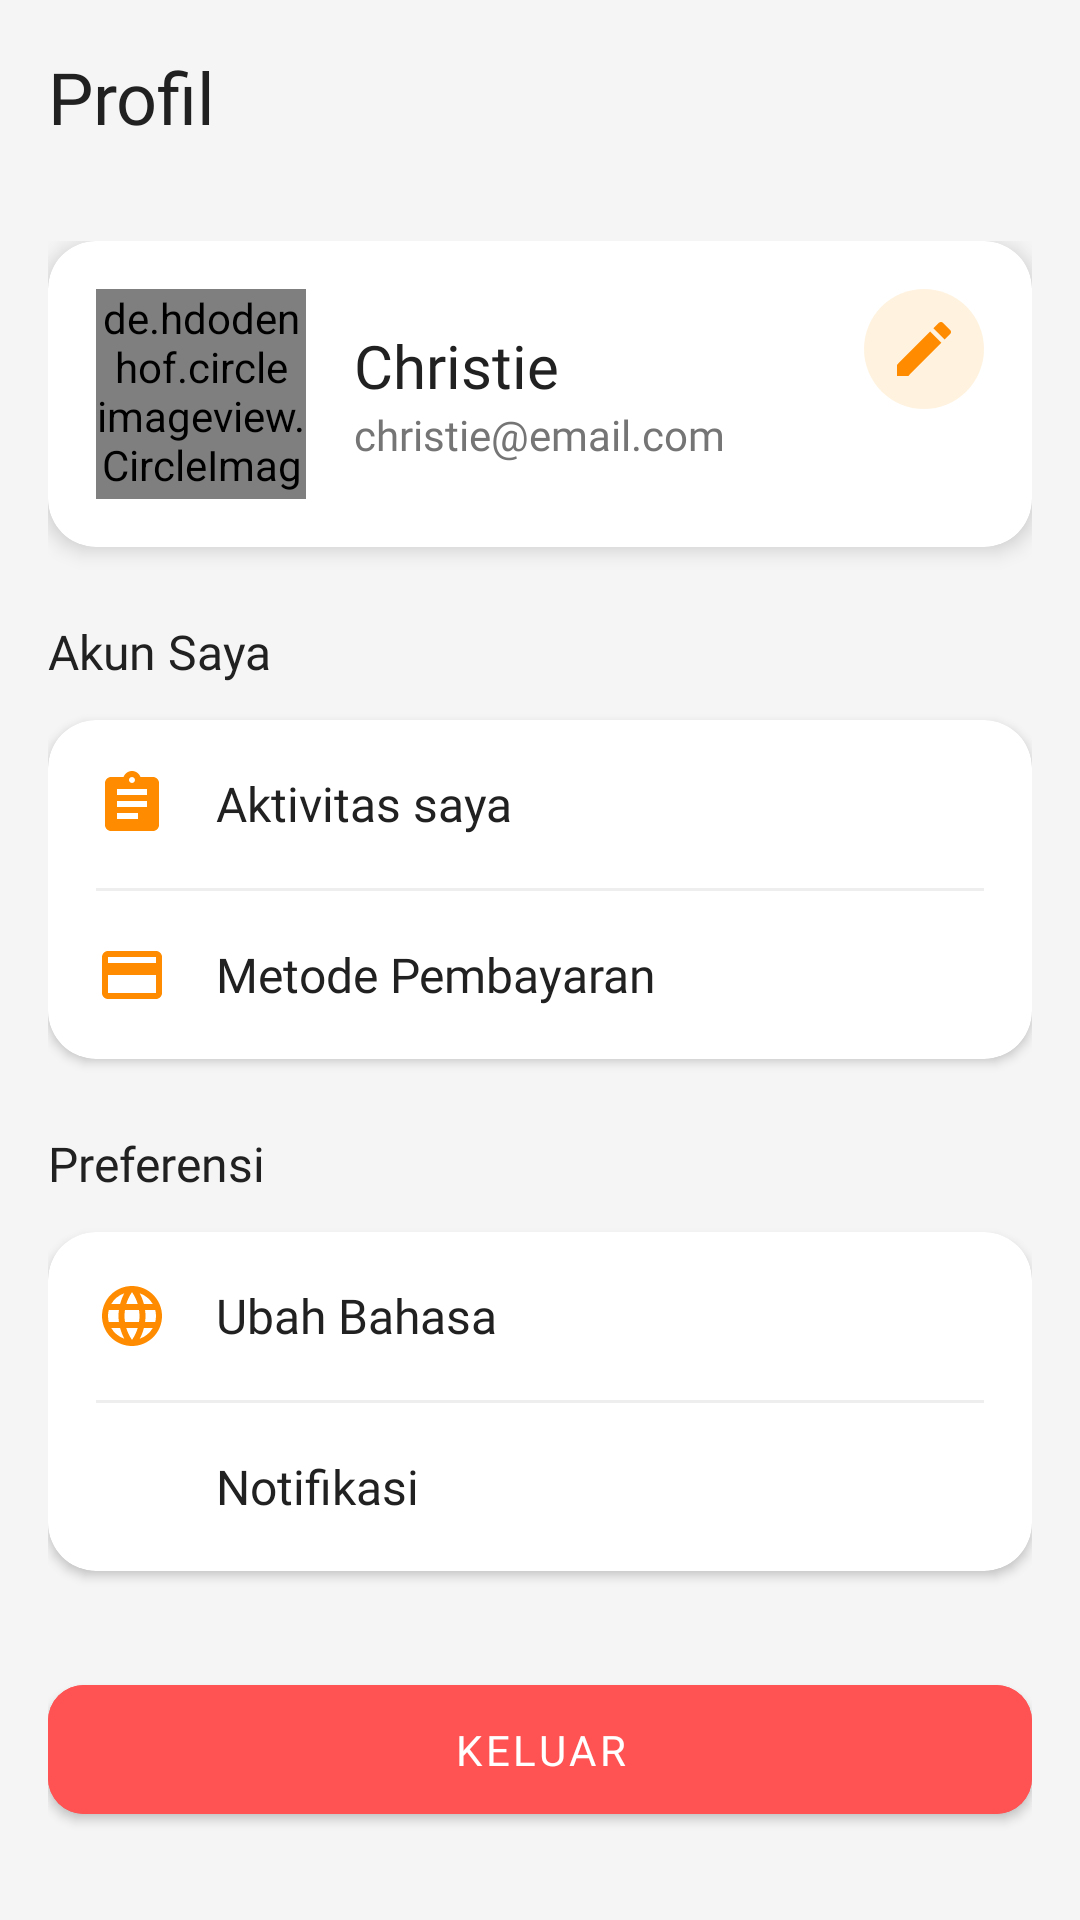

Screen size 1080×1920. Icon name, then its center in pixels as [x,y]:
activities: [132,801]
edit: [924,349]
language: [132,1316]
payment: [132,975]
